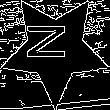N_E: (31, 29, 79, 69)
